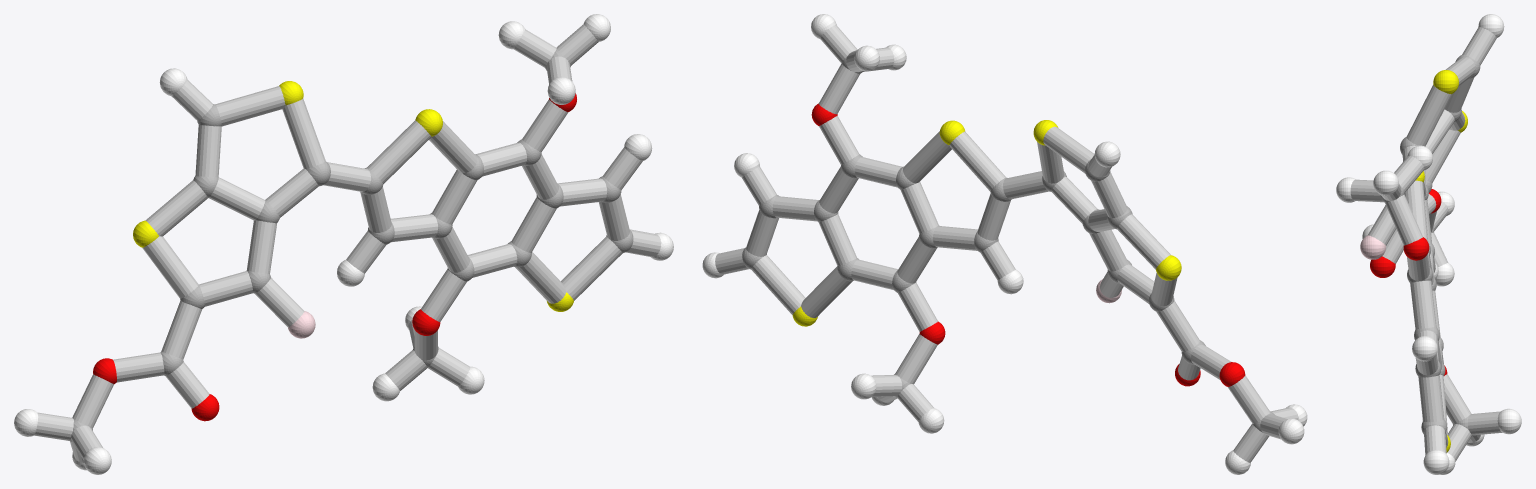
The model's file is color.glb.
3 views of the same model, side by side, from view 1: azimuth 30°, elevation 25°; view 2: azimuth 150°, elevation 25°; view 3: azimuth 270°, elevation 25° (orthographic). The views are drawn at different scales.
Visible parts, largest first — view 1: grp15205, grp8689, grp1, grp7241, grp13395; view 2: grp15205, grp8689, grp1, grp7241, grp13395; view 3: grp15205, grp8689, grp1, grp13395, grp7241, grp14843.
Boxes of the visible parts, x1=… form: grp15205: x1=34, y1=24, x2=661, y2=462; grp8689: x1=14, y1=14, x2=673, y2=474; grp1: x1=70, y1=49, x2=633, y2=443; grp7241: x1=133, y1=81, x2=573, y2=311; grp13395: x1=93, y1=93, x2=576, y2=421; grp15205: x1=715, y1=25, x2=1298, y2=462; grp8689: x1=702, y1=14, x2=1307, y2=474; grp1: x1=742, y1=49, x2=1274, y2=432; grp7241: x1=792, y1=120, x2=1181, y2=326; grp13395: x1=811, y1=103, x2=1245, y2=386; grp15205: x1=1350, y1=27, x2=1502, y2=461; grp8689: x1=1336, y1=14, x2=1521, y2=474; grp1: x1=1380, y1=54, x2=1480, y2=436; grp13395: x1=1370, y1=189, x2=1447, y2=375; grp7241: x1=1415, y1=70, x2=1467, y2=452; grp14843: x1=1360, y1=235, x2=1385, y2=259.
Size of the model in its own units: 16.05 by 8.9 by 4.32.
